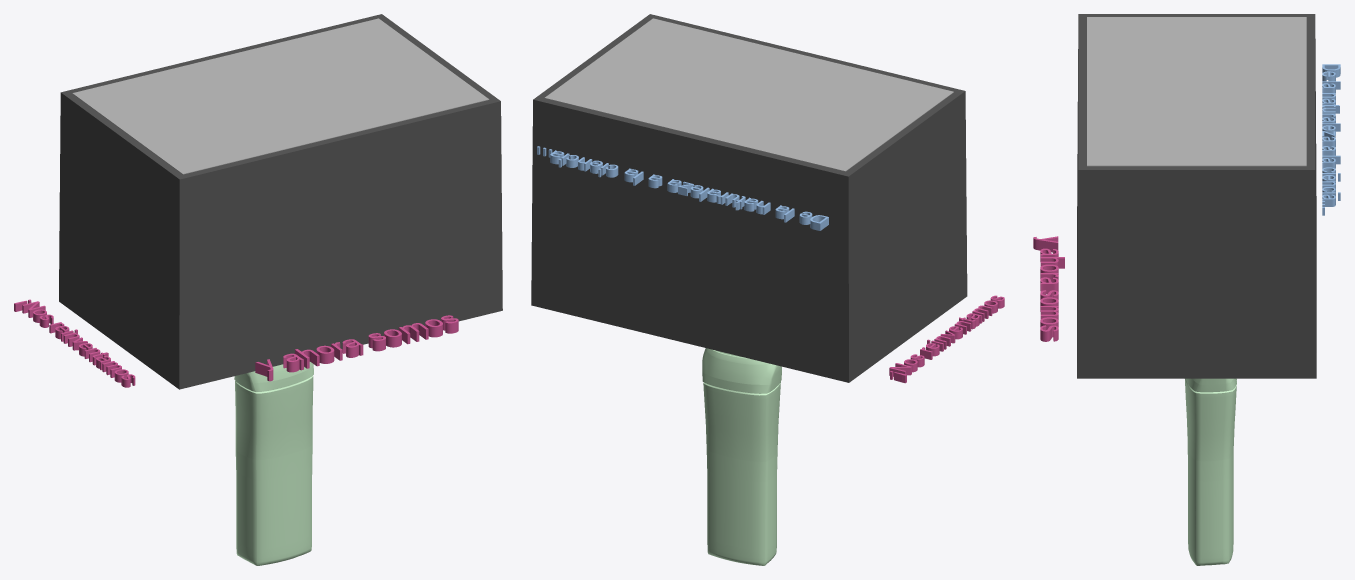
Rendered from shampoo_03.glb.
The picture shows the model from 3 angles, left to right: view 1: azimuth 30°, elevation 25°; view 2: azimuth 150°, elevation 25°; view 3: azimuth 270°, elevation 25°; orthographic projection.
Parts seen in each view (by area): view 1: polySurface52, polySurface53, obj:Box009; view 2: polySurface52, polySurface53, obj:Box009, de_la_natu; view 3: polySurface52, polySurface53, obj:Box009, de_la_natu.
Boxes of the visible parts, x1,y1,x2,y2 form: polySurface52: [59, 14, 502, 389]; polySurface53: [72, 18, 489, 174]; obj:Box009: [234, 362, 313, 565]; polySurface52: [531, 14, 967, 382]; polySurface53: [545, 18, 953, 171]; obj:Box009: [702, 348, 781, 565]; de_la_natu: [537, 146, 828, 230]; polySurface52: [1077, 14, 1316, 378]; polySurface53: [1087, 17, 1306, 166]; obj:Box009: [1185, 378, 1236, 565]; de_la_natu: [1322, 64, 1340, 215].
Size of the model in its own units: 37.82 by 44.59 by 26.99.
